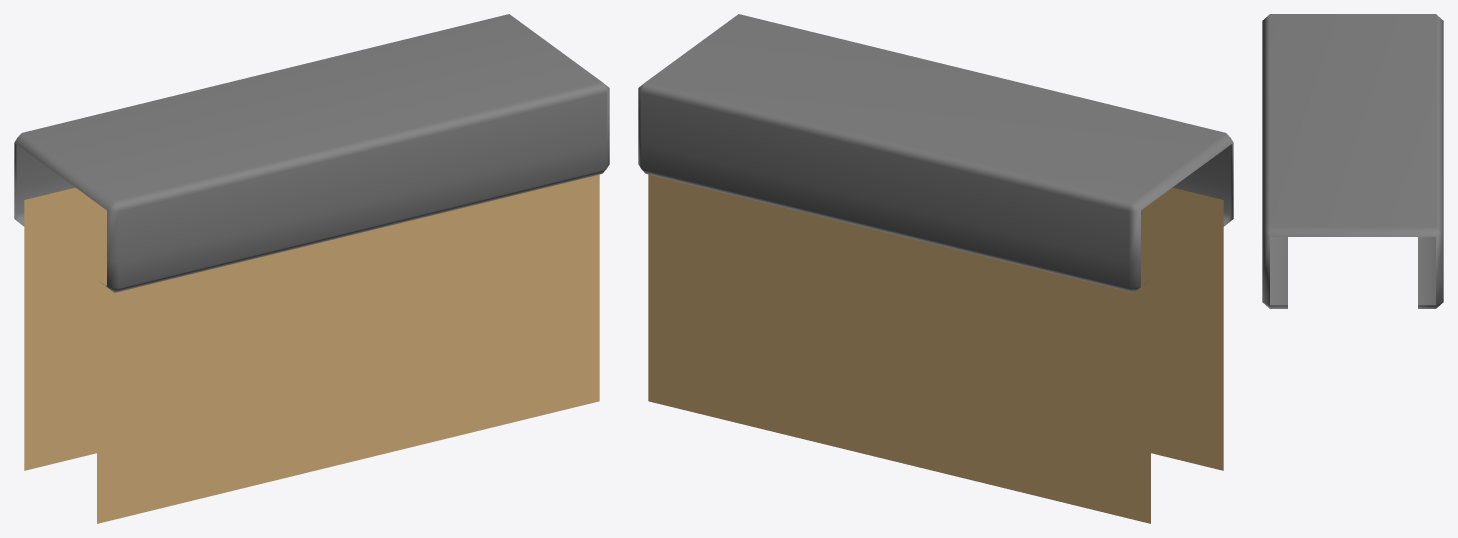
Rendered from SM_WallA_4x2_LOD1.fbx.
3 renders of one model, left to right at view 1: azimuth 30°, elevation 25°; view 2: azimuth 150°, elevation 25°; view 3: azimuth 270°, elevation 25°, orthographic. The views are drawn at different scales.
Parts seen in each view (by area): view 1: SM_WallA_4x2_LOD1; view 2: SM_WallA_4x2_LOD1; view 3: SM_WallA_4x2_LOD1.
Part boxes in pixels (x1,y1,x2,y2): SM_WallA_4x2_LOD1: (14, 14, 609, 523); SM_WallA_4x2_LOD1: (638, 14, 1233, 523); SM_WallA_4x2_LOD1: (1262, 14, 1443, 308).
Size of the model in its own units: 4 by 2.5 by 1.4.
